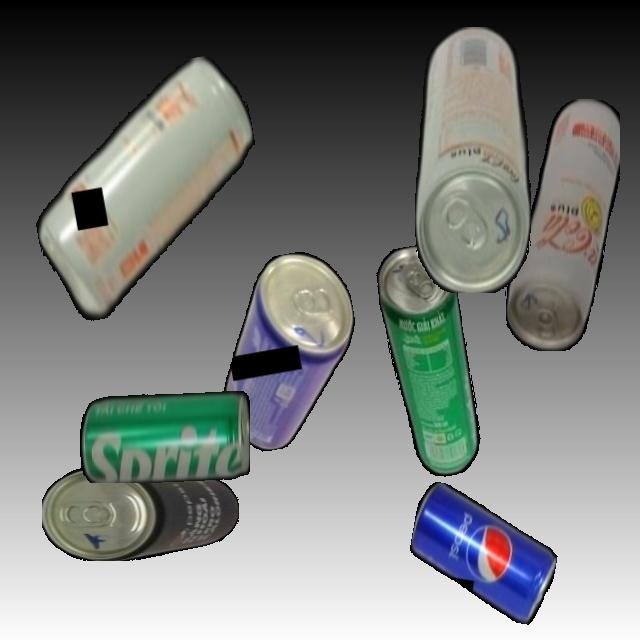debris: (13, 50, 280, 327), (203, 245, 374, 456), (414, 26, 531, 293), (504, 98, 620, 351), (371, 240, 489, 482), (401, 480, 566, 627), (42, 465, 239, 561), (79, 390, 250, 483)
